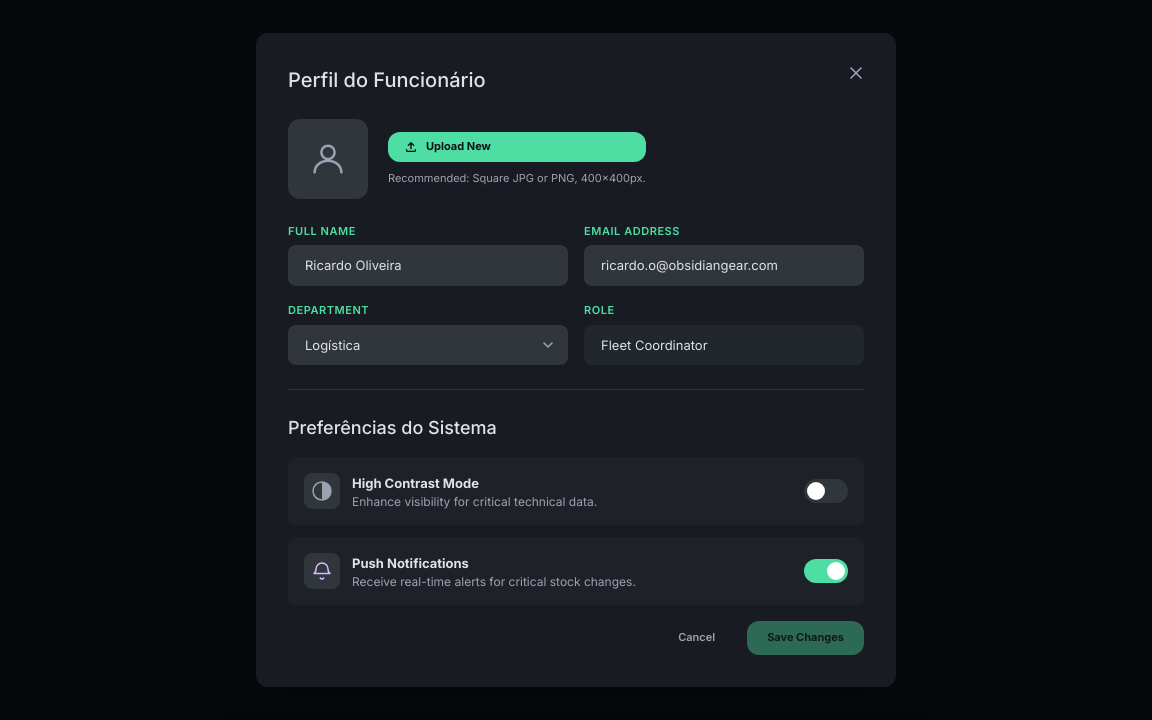
Test: EmployeeProfileModal — 5.3 Push Notifications › alterar pushNotifications habilita Save Changes (dirty check integrado)
Click the switch named "push notifications": [826, 572] box [804,560,848,584]
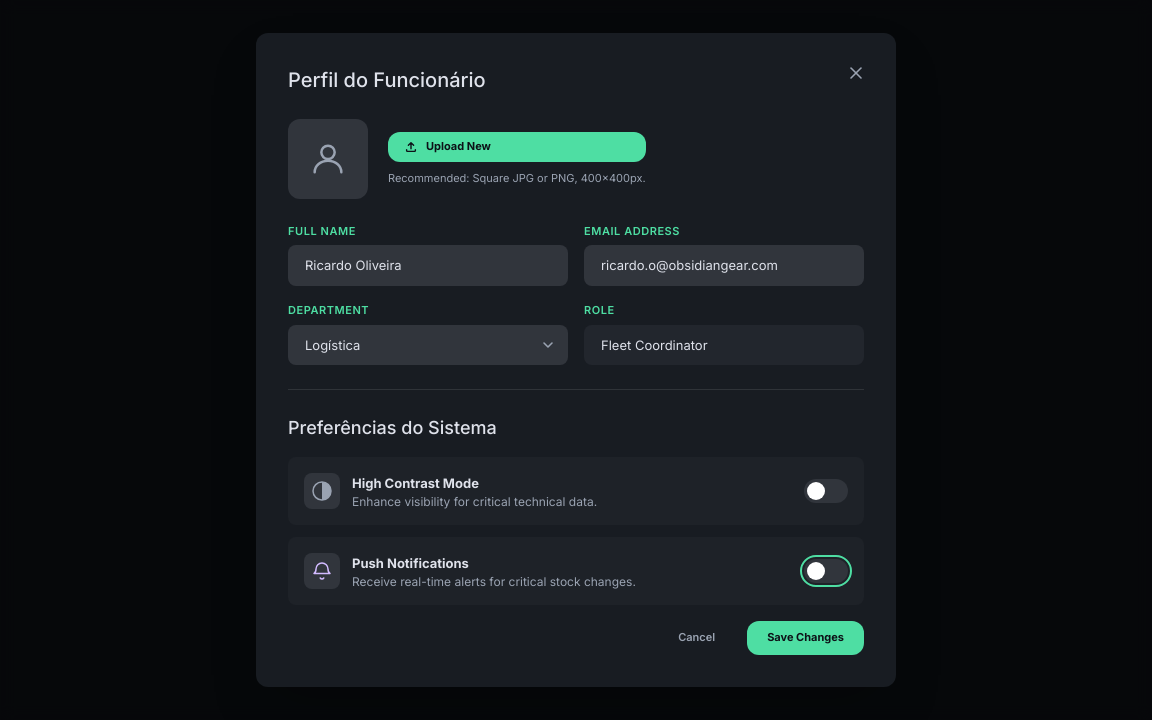
expect the button with aria-label "salvar alterações" is enabled: met, box [747,622,864,655]
